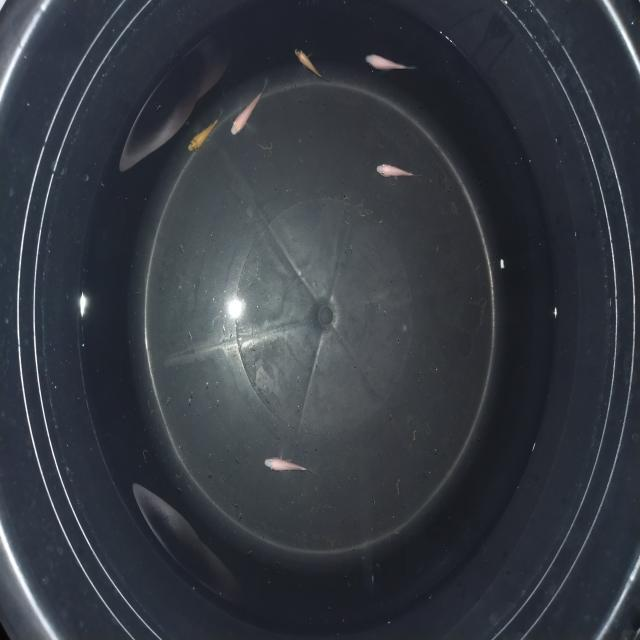nila: (230, 72, 271, 143), (290, 40, 328, 86), (187, 109, 220, 154), (362, 50, 416, 74), (260, 456, 310, 474), (374, 162, 416, 181)
